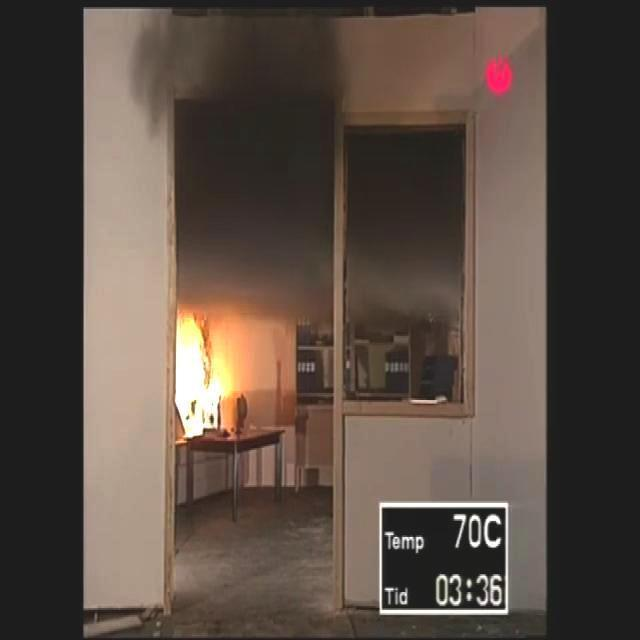fire: (164, 7, 346, 215)
smoke: (176, 310, 224, 446)
